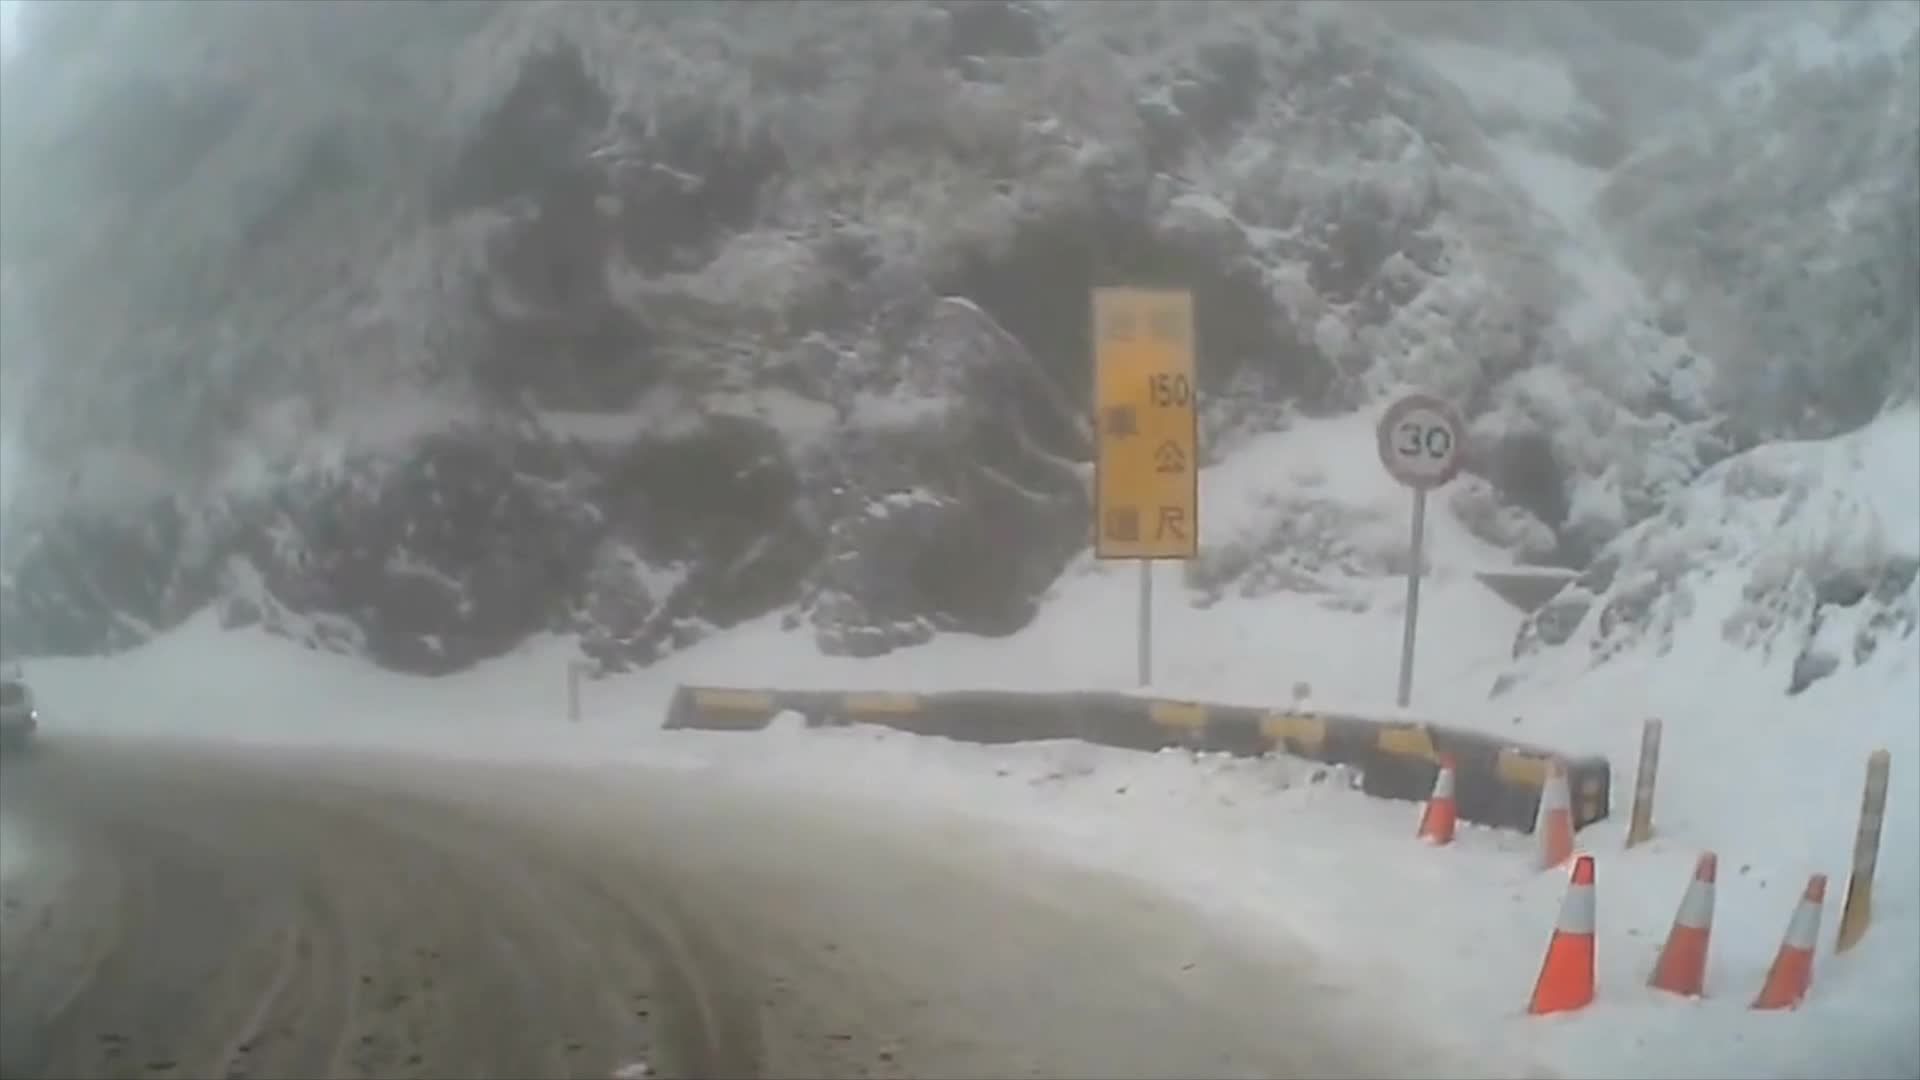vehicle: (0, 673, 36, 752)
